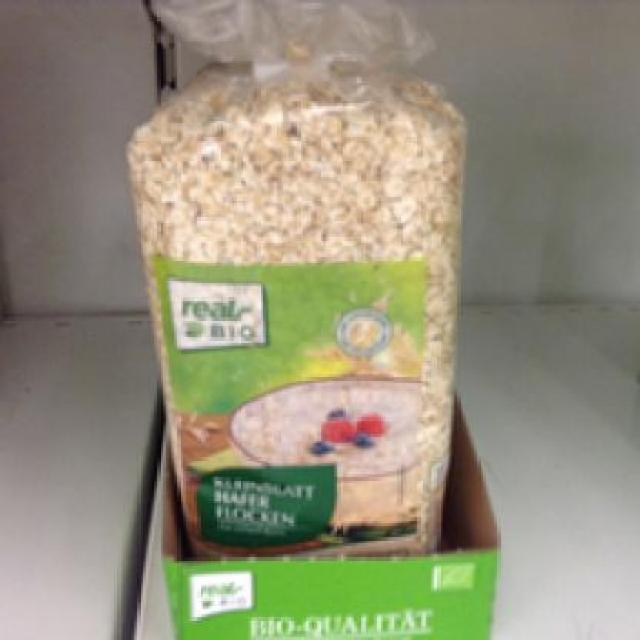Cereal: (126, 66, 466, 560)
